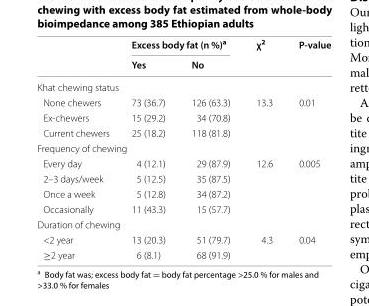table: (36, 36, 330, 267)
table column: (36, 36, 119, 267), (177, 36, 242, 267), (119, 36, 177, 267), (285, 36, 330, 267), (242, 36, 285, 267)
table column header: (36, 36, 330, 75)
table projected row header: (36, 75, 330, 94), (36, 140, 330, 155), (36, 216, 330, 231)
table row: (36, 53, 330, 75), (36, 246, 330, 267), (36, 75, 330, 94), (36, 36, 330, 53), (36, 124, 330, 140), (36, 185, 330, 201), (36, 94, 330, 109), (36, 109, 330, 124), (36, 140, 330, 155), (36, 155, 330, 170), (36, 170, 330, 185), (36, 201, 330, 216), (36, 216, 330, 231), (36, 231, 330, 246)
table spanning cell: (119, 36, 242, 53), (285, 36, 330, 75), (242, 36, 285, 75)
